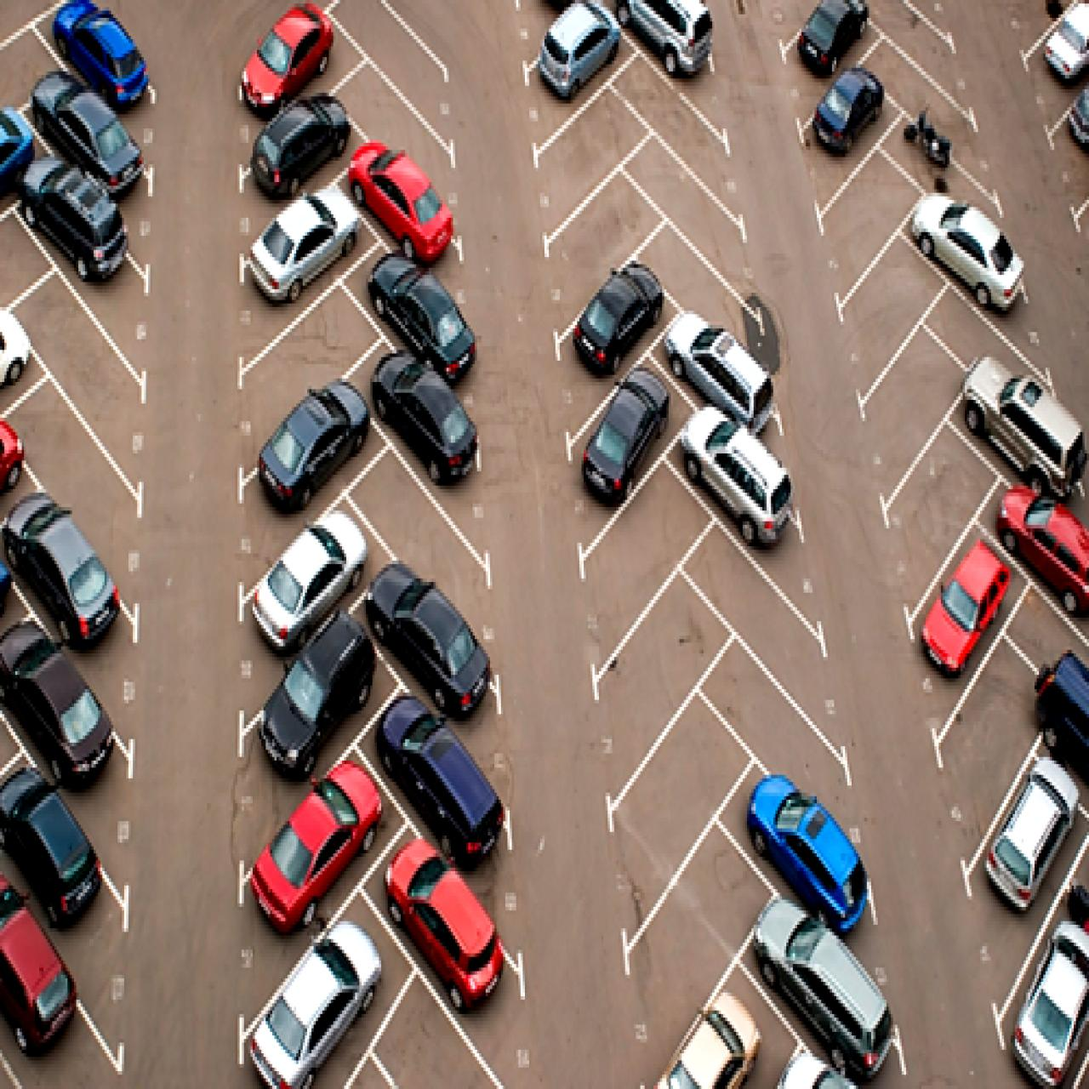cars: (0, 484, 131, 712), (9, 610, 135, 846), (378, 686, 506, 893), (254, 744, 367, 959), (735, 755, 859, 948), (763, 895, 890, 1080), (390, 835, 507, 1032), (11, 762, 115, 977), (365, 555, 489, 730), (27, 145, 136, 338), (686, 396, 788, 593), (250, 919, 377, 1076), (248, 498, 359, 673), (986, 752, 1072, 973), (0, 899, 106, 1075), (29, 66, 143, 227), (260, 612, 363, 787), (1001, 889, 1089, 1089), (974, 355, 1076, 523), (988, 443, 1084, 621), (922, 517, 1001, 725), (248, 382, 359, 521), (251, 180, 344, 330), (50, 0, 148, 139), (368, 127, 451, 284), (379, 243, 462, 400), (577, 368, 660, 525), (671, 311, 771, 436), (568, 259, 653, 405), (388, 341, 466, 495), (235, 9, 336, 123), (920, 186, 1005, 321), (248, 93, 344, 207), (528, 5, 611, 127), (890, 102, 984, 205), (626, 0, 711, 107), (787, 0, 857, 114), (813, 77, 883, 191), (1043, 684, 1089, 837), (1030, 0, 1089, 114)
empty: (717, 614, 847, 842), (633, 807, 750, 1053), (15, 361, 135, 596), (613, 689, 724, 936), (600, 559, 718, 787), (700, 512, 824, 705), (26, 268, 133, 464), (229, 287, 359, 444), (590, 455, 679, 659), (943, 637, 1026, 855), (900, 416, 974, 623), (823, 130, 911, 302), (378, 455, 478, 602), (645, 130, 740, 281), (652, 223, 759, 355), (841, 221, 924, 382), (940, 268, 1036, 407), (353, 52, 442, 195), (877, 30, 972, 163), (535, 93, 626, 229), (552, 170, 637, 313), (625, 54, 719, 179), (1011, 566, 1087, 716), (871, 307, 943, 464), (344, 0, 435, 114), (867, 0, 958, 89)
